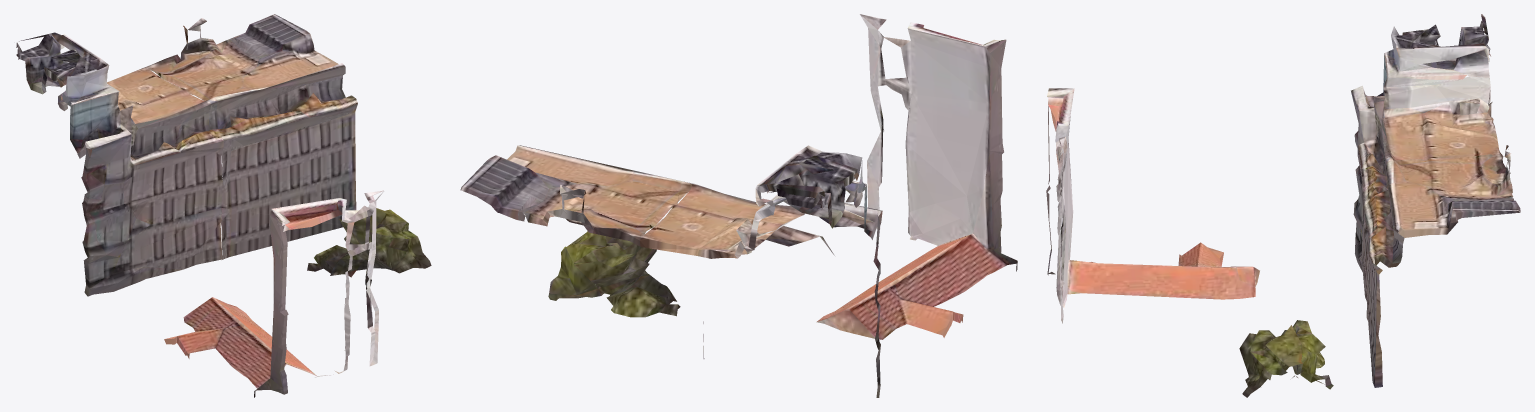
The picture shows the model from 3 angles, left to right: view 1: azimuth 30°, elevation 25°; view 2: azimuth 150°, elevation 25°; view 3: azimuth 270°, elevation 25°; orthographic projection. The views are drawn at different scales.
Visible parts, largest first — view 1: Mesh_0; view 2: Mesh_0; view 3: Mesh_0.
Boxes of the visible parts, x1=… form: Mesh_0: x1=16, y1=14, x2=431, y2=397; Mesh_0: x1=460, y1=14, x2=1017, y2=397; Mesh_0: x1=1046, y1=14, x2=1520, y2=397.
Bounding box in the file's own units: 31.99 × 22.47 × 41.19.
Materials: 1 (1 with a texture image).
